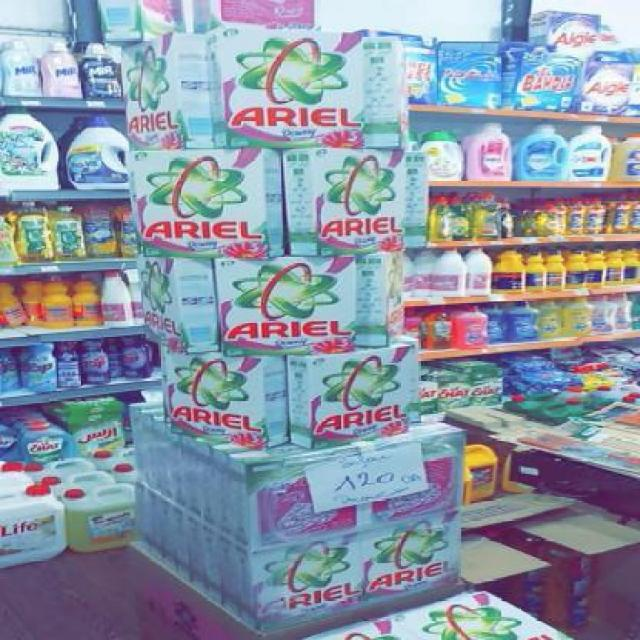Detergent: (212, 28, 368, 150), (158, 344, 316, 456), (284, 138, 414, 258), (137, 152, 286, 256), (212, 253, 358, 352), (288, 343, 419, 445), (362, 518, 468, 602), (255, 543, 367, 622)
